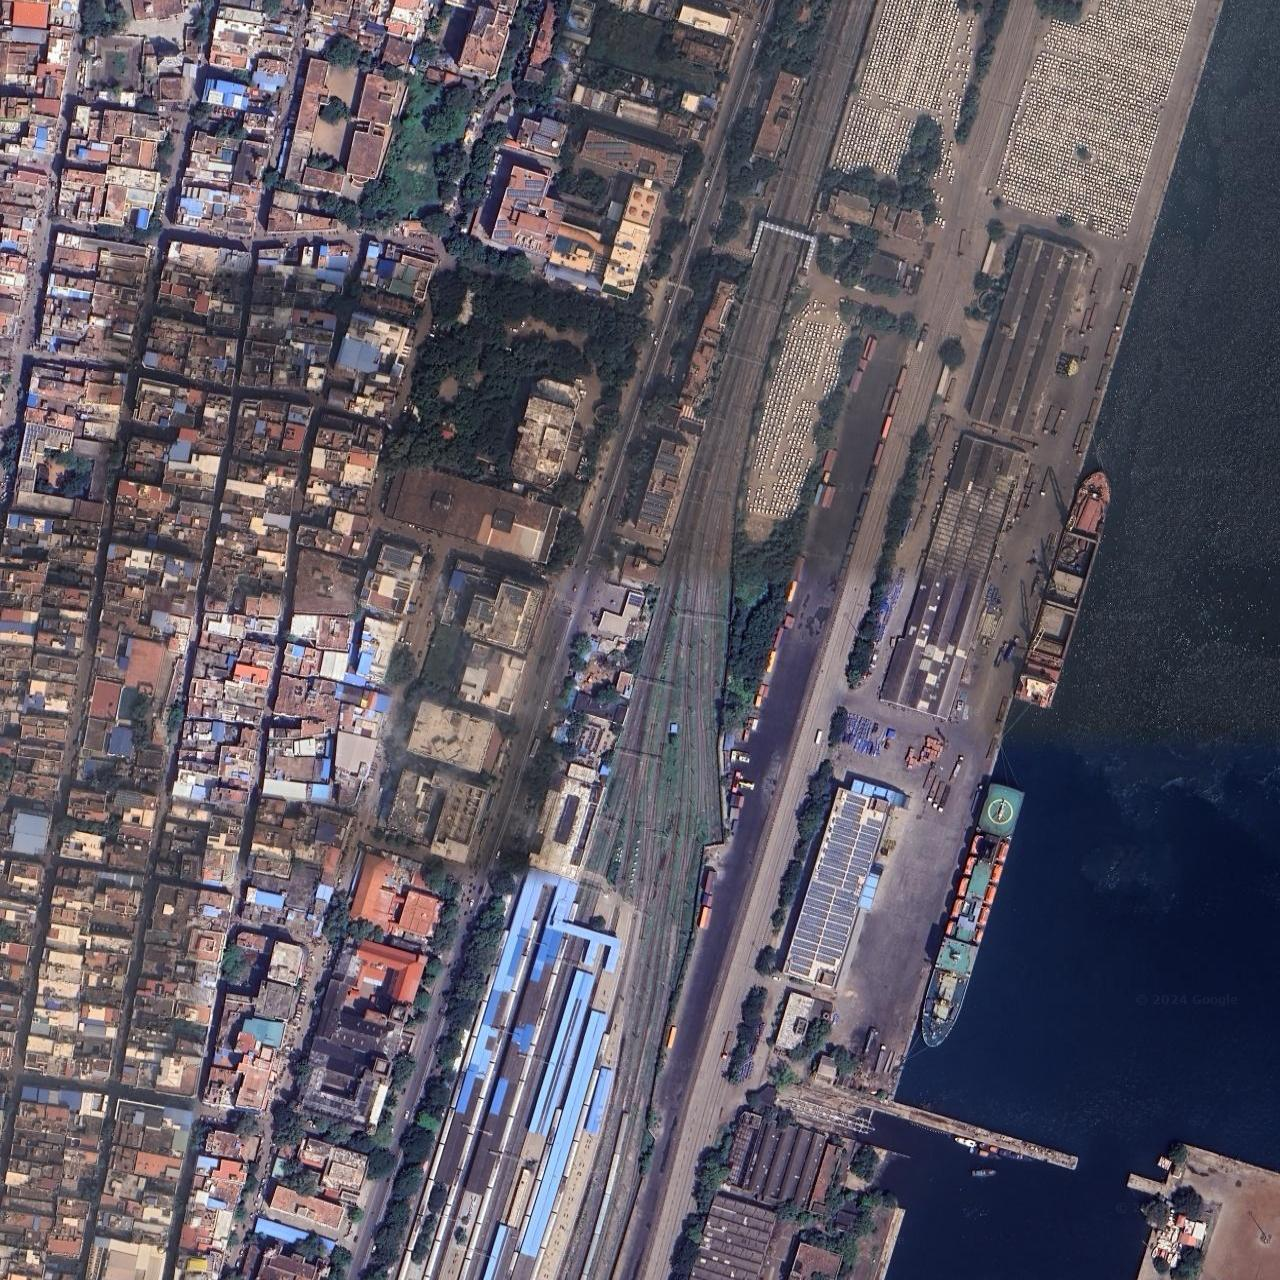greenery: (388, 264, 644, 488), (359, 88, 491, 261)
house: (2, 508, 545, 1280), (0, 4, 581, 621), (459, 8, 768, 292)
water: (879, 0, 1280, 1280)
